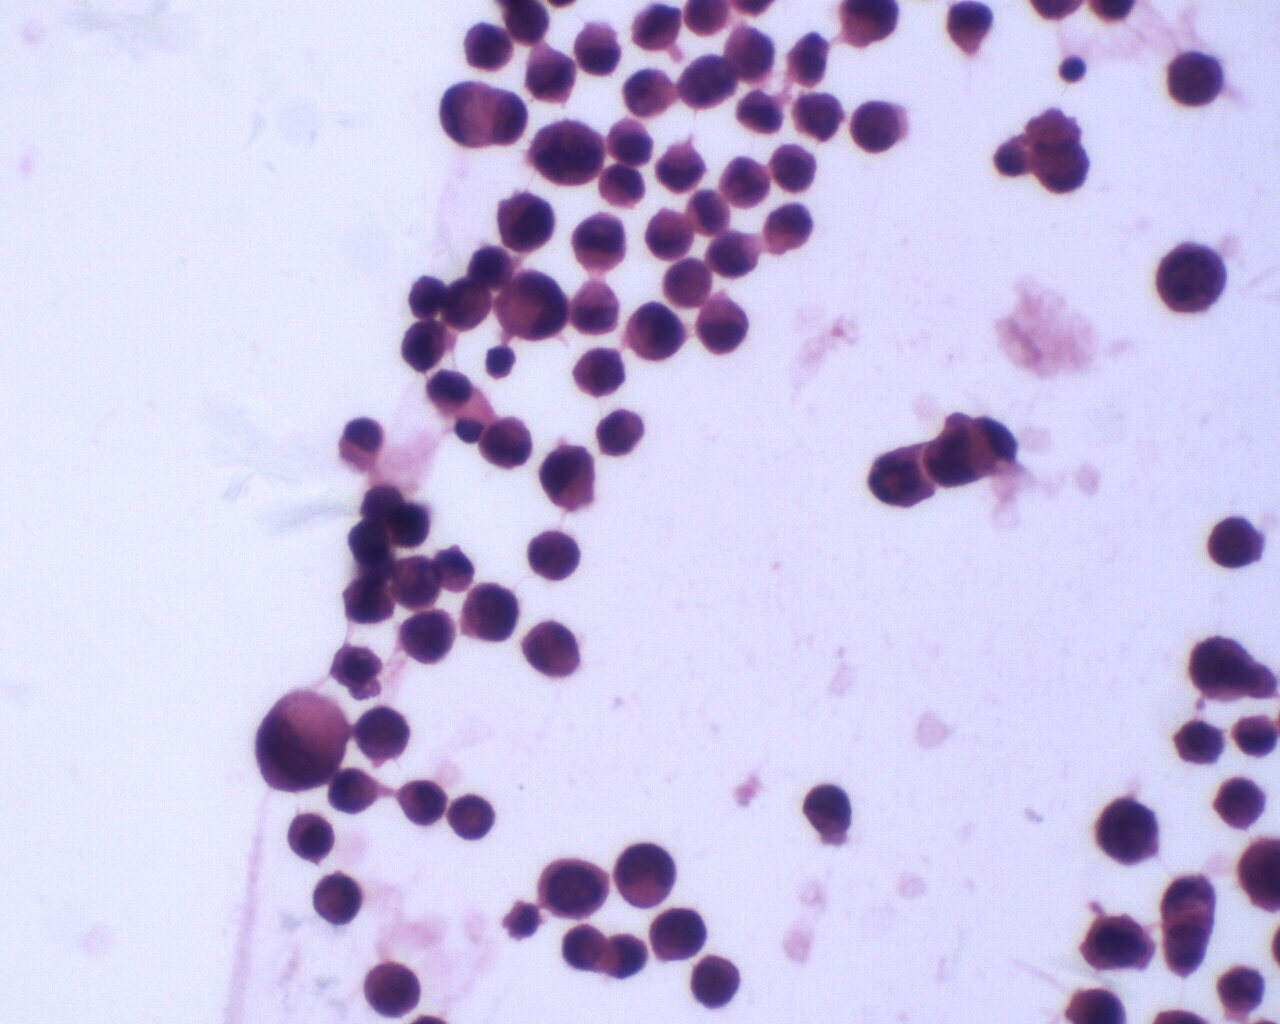ab: (248, 688, 354, 793), (1177, 627, 1275, 704), (1151, 238, 1229, 320), (533, 853, 613, 925), (529, 117, 604, 188), (1093, 795, 1162, 866), (1078, 911, 1159, 970), (611, 842, 680, 908), (351, 703, 416, 767), (495, 190, 559, 255), (867, 444, 932, 508), (626, 300, 686, 364), (358, 958, 421, 1019), (644, 904, 706, 964), (460, 582, 520, 643), (1165, 48, 1224, 110), (679, 51, 738, 111), (569, 210, 626, 272), (798, 779, 856, 838), (387, 554, 444, 611), (846, 98, 904, 155), (1206, 515, 1264, 571), (706, 225, 765, 280), (525, 44, 578, 104), (689, 955, 744, 1013), (567, 344, 626, 398), (478, 413, 532, 470), (601, 114, 658, 168), (790, 88, 843, 144), (311, 872, 366, 927), (396, 611, 451, 665), (461, 20, 514, 74), (1212, 777, 1269, 829), (591, 405, 646, 458), (521, 531, 581, 578), (1215, 961, 1269, 1013), (396, 778, 449, 829), (399, 320, 446, 375), (1173, 718, 1226, 767), (768, 142, 817, 192)
lymph: (1058, 50, 1091, 84)
